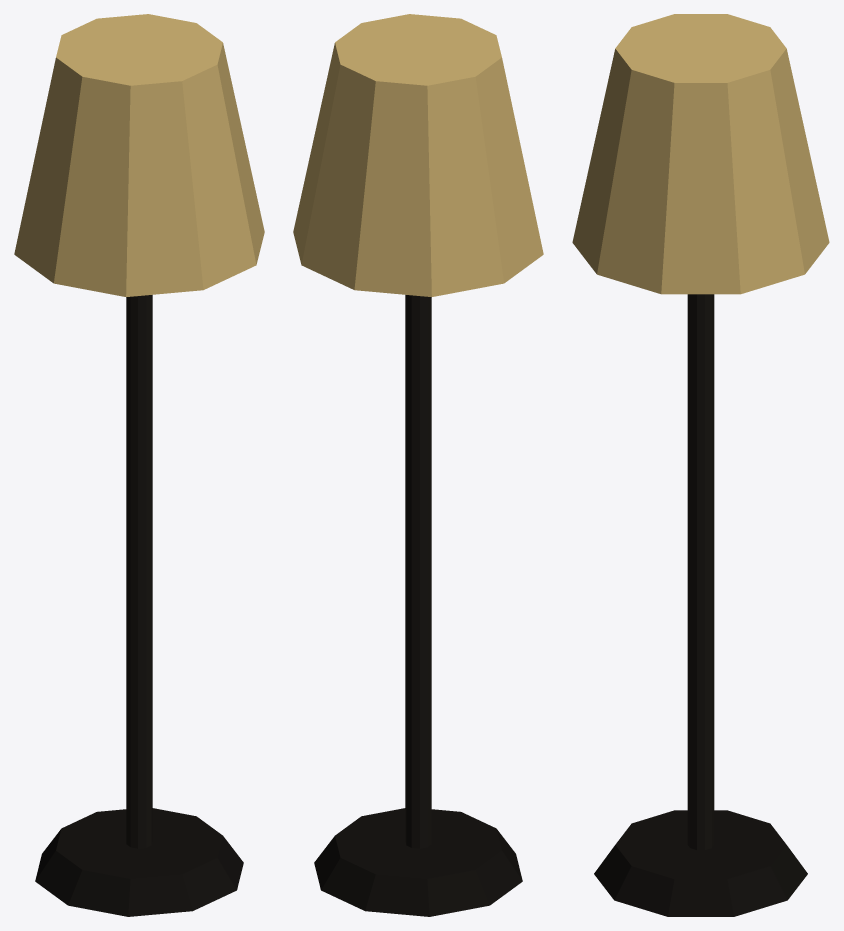
Rendered from lamp.obj.
3 renders of one model, left to right at view 1: azimuth 30°, elevation 25°; view 2: azimuth 150°, elevation 25°; view 3: azimuth 270°, elevation 25°, orthographic.
Size of the model in its own units: 0.4565 by 1.7 by 0.48.
